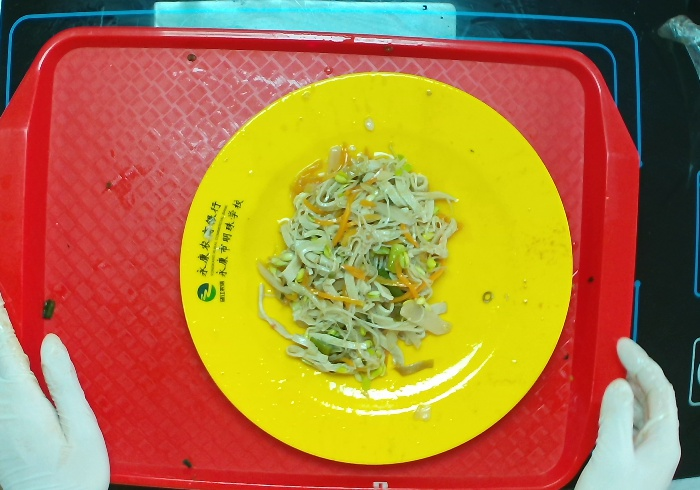YKMZ-Huang_Se_Mian_Pan: (177, 73, 576, 465)
